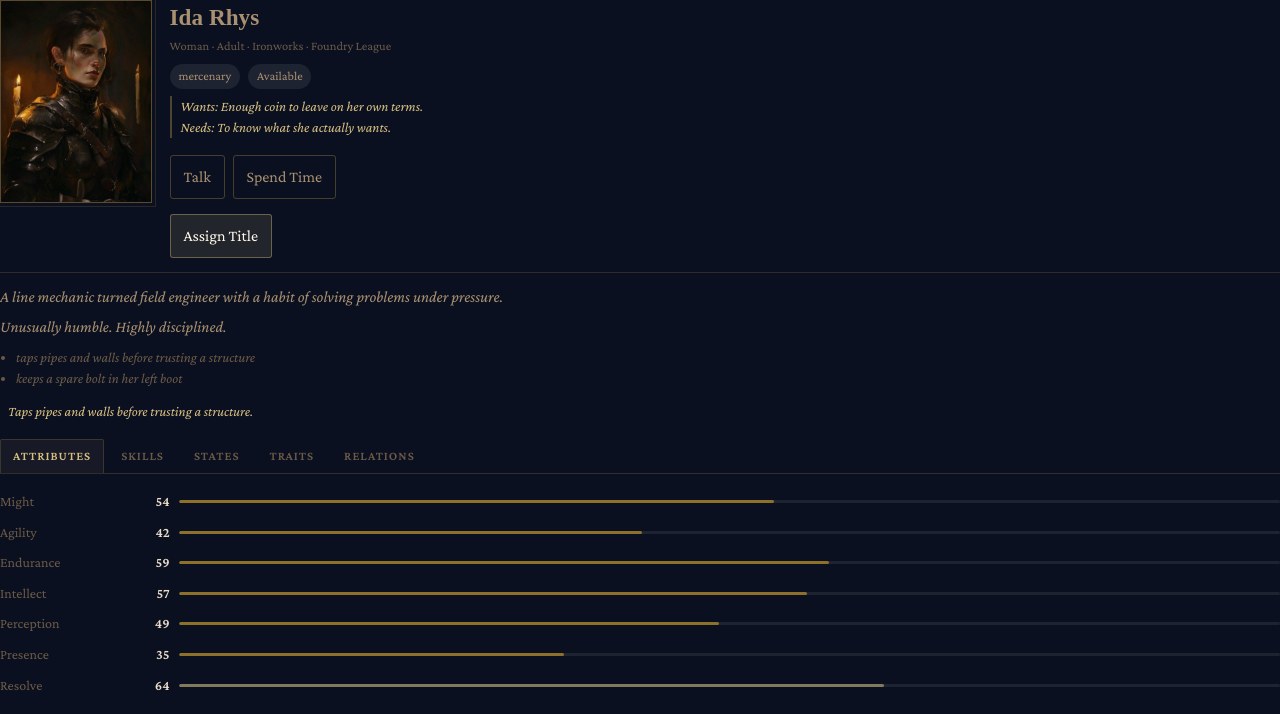
Test: NpcDetailPanel — courtship loop › opens the date proposal modal from Spend Time when the bond is established
Click the button "Spend Time" at (284, 177), box [233,155,336,199]
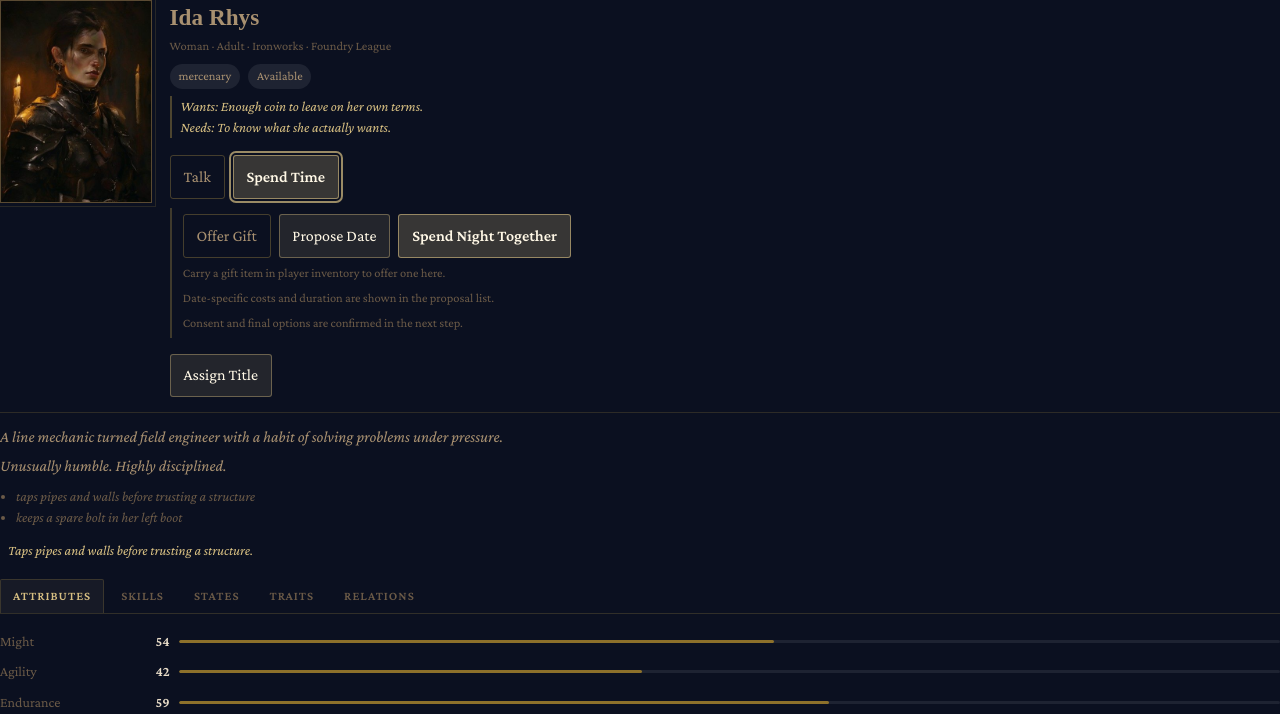
Click the button "Propose Date" at (334, 236), box [278,214,390,258]
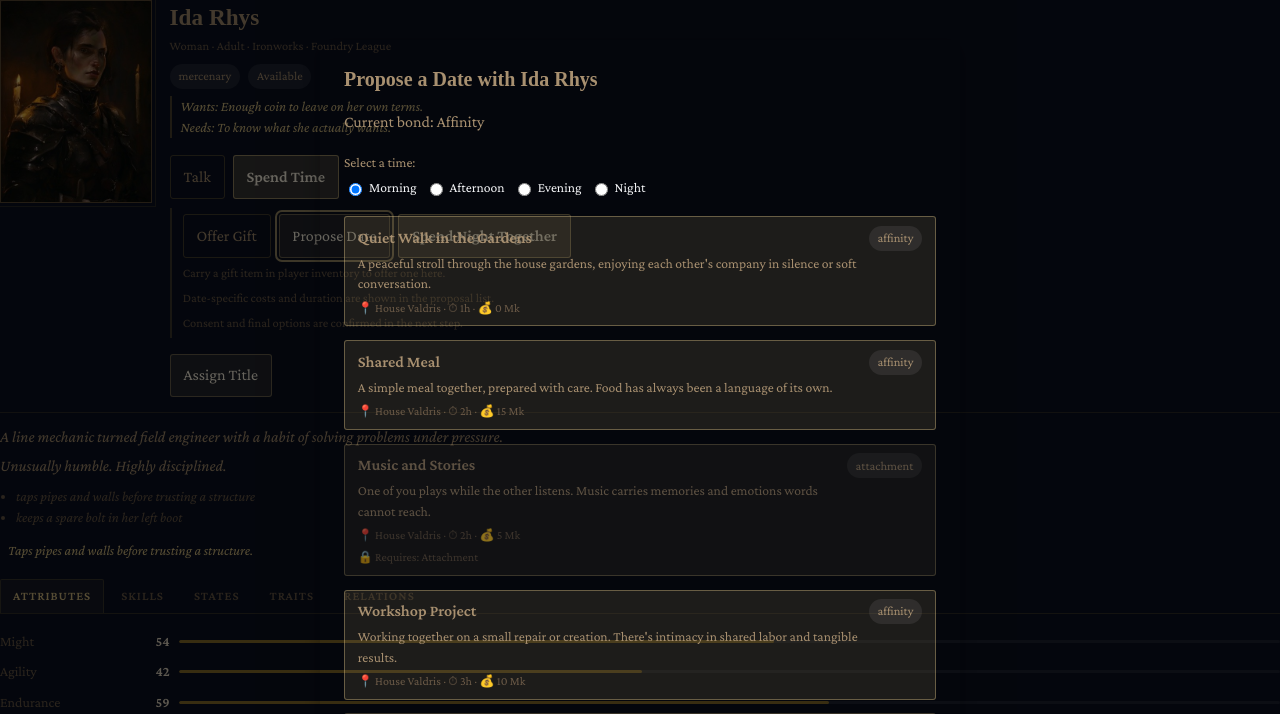
Now the heading "Propose a Date with Ida Rhys" is shown, box [344,68,598,90]
Now the text "Current bond: Affinity" is shown, box [344,113,484,130]
